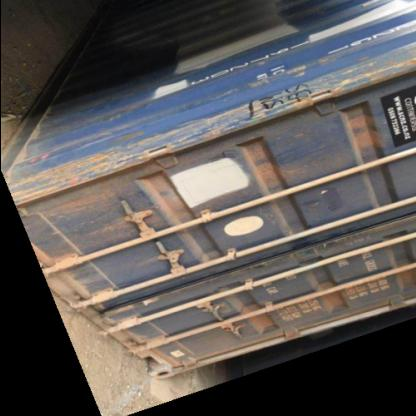Damage: (16, 150, 114, 200), (230, 139, 292, 197), (244, 86, 330, 126), (337, 100, 387, 156), (148, 170, 193, 220), (232, 291, 284, 333), (320, 275, 353, 316)
